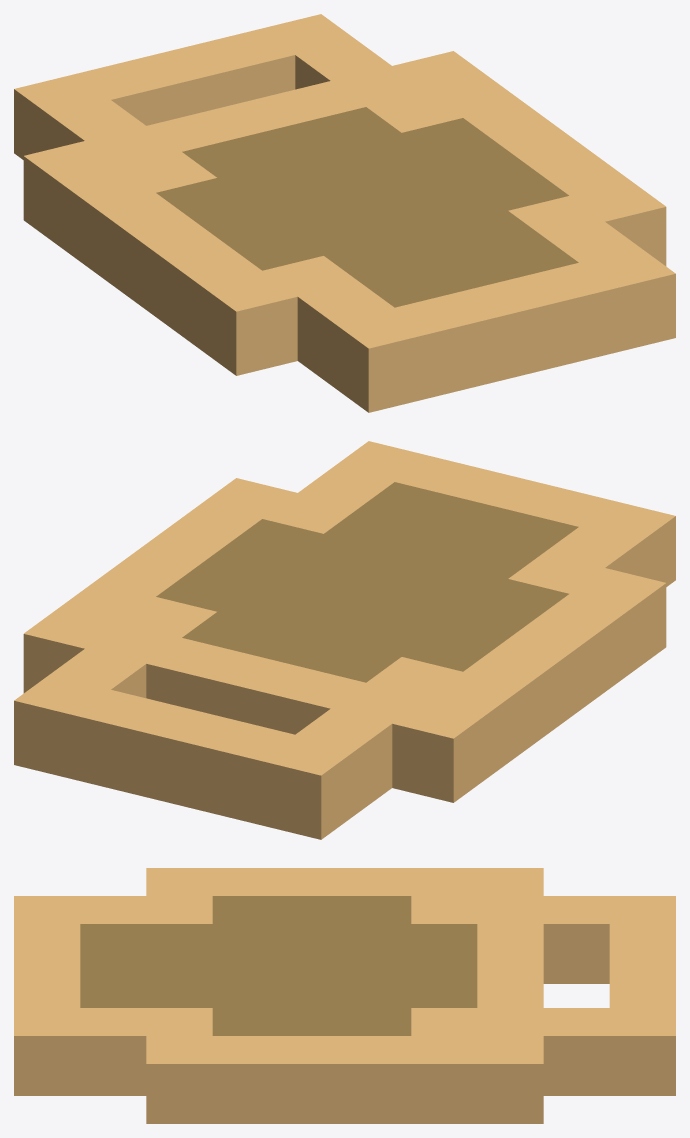
Rendered from breadcutter2.obj.
The picture shows the model from 3 angles, top to bottom: view 1: azimuth 30°, elevation 25°; view 2: azimuth 150°, elevation 25°; view 3: azimuth 270°, elevation 25°; orthographic projection. The views are drawn at different scales.
Bounding box in the file's own units: 0.7 × 0.1 × 1.
Materials: 1 (1 with a texture image).
